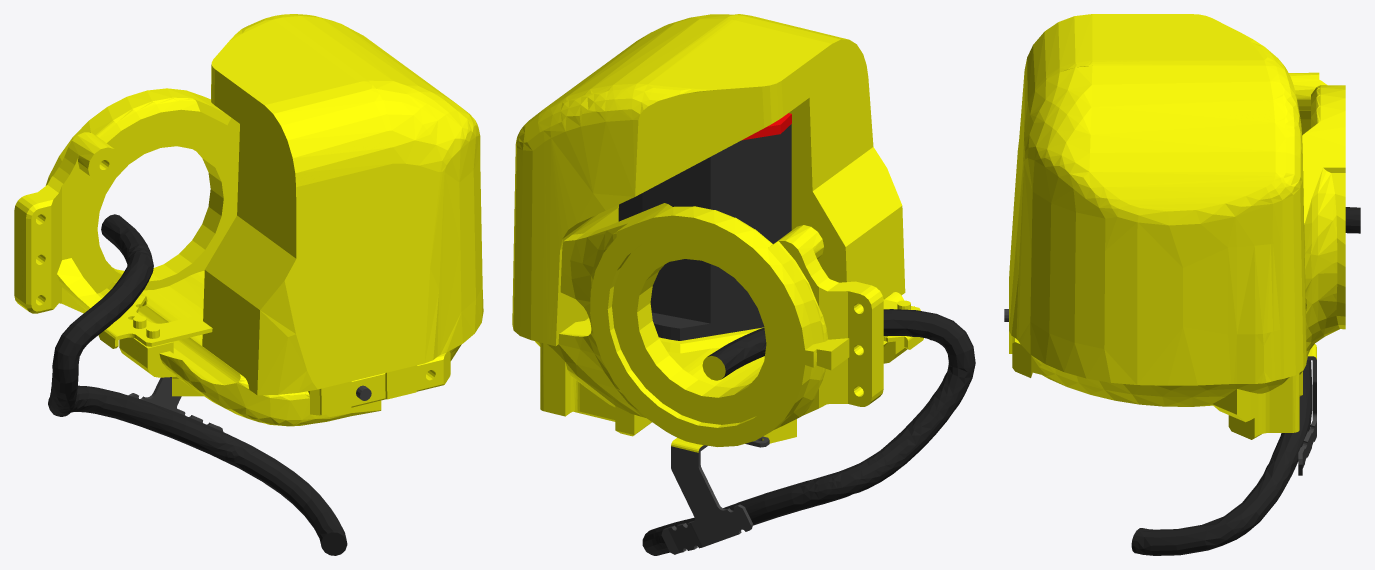
3 renders of one model, left to right at view 1: azimuth 30°, elevation 25°; view 2: azimuth 150°, elevation 25°; view 3: azimuth 270°, elevation 25°, orthographic. The views are drawn at different scales.
Parts seen in each view (by area): view 1: node; view 2: node; view 3: node.
Boxes of the visible parts, x1,y1,x2,y2 form: node: (14,14,483,555); node: (512,14,975,555); node: (1004,14,1360,555).
Size of the model in its own units: 347 by 401 by 262.
